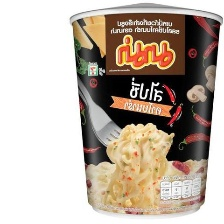paper_cup: (64, 0, 224, 224)
